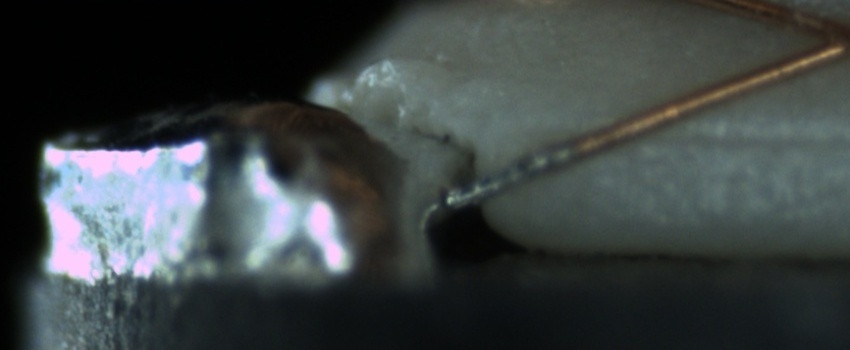CL: (790, 6, 849, 66)
DL: (615, 104, 847, 172)
TS: (441, 141, 574, 211)
TTCW: (441, 121, 613, 209)
